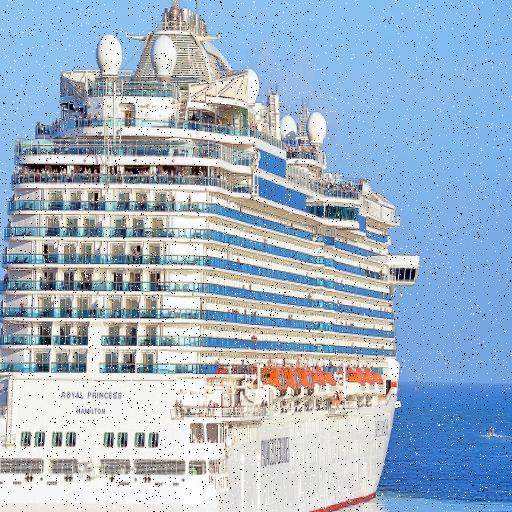cruises: (1, 2, 425, 512)
